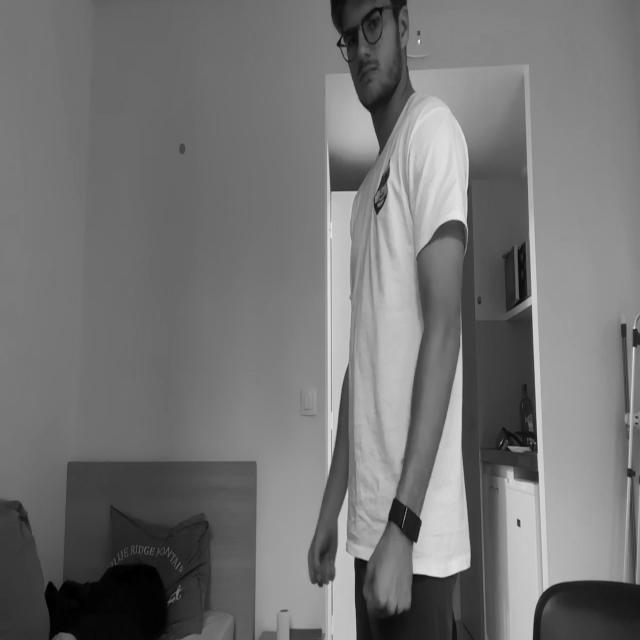elbow: (426, 308, 464, 364)
hand: (365, 523, 414, 611), (304, 510, 340, 588)
shoulder: (407, 103, 466, 200)
